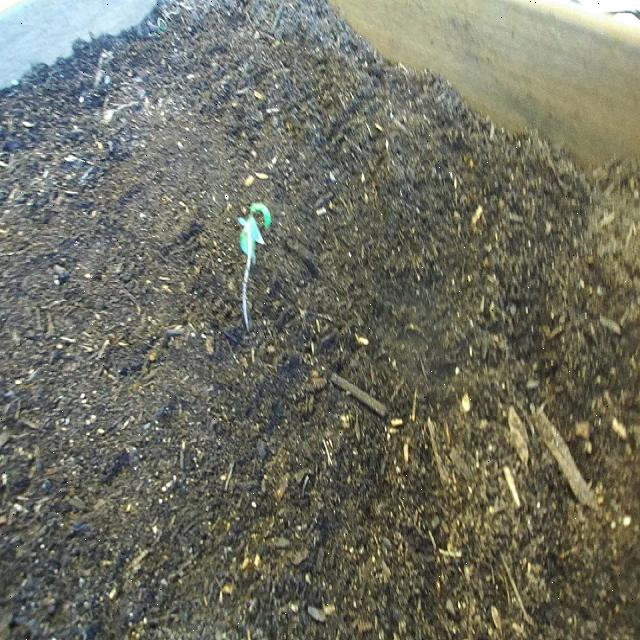Healthy: (234, 197, 274, 337)
